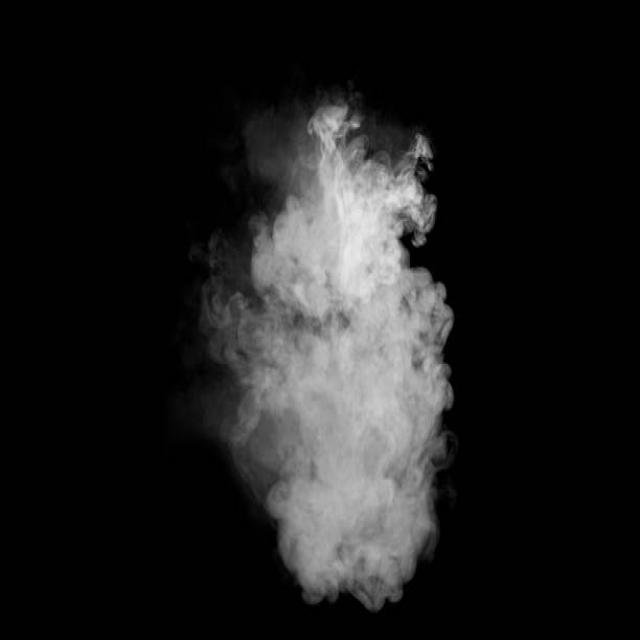smoke: (210, 71, 456, 614)
